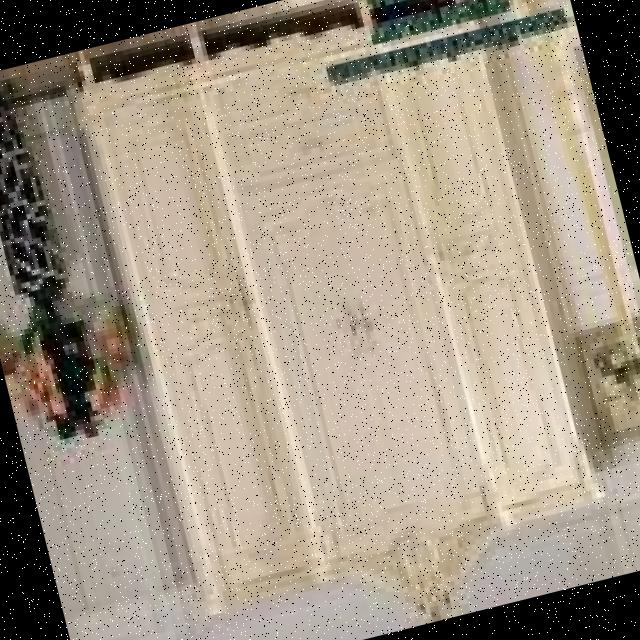Closet: (50, 0, 622, 640)
